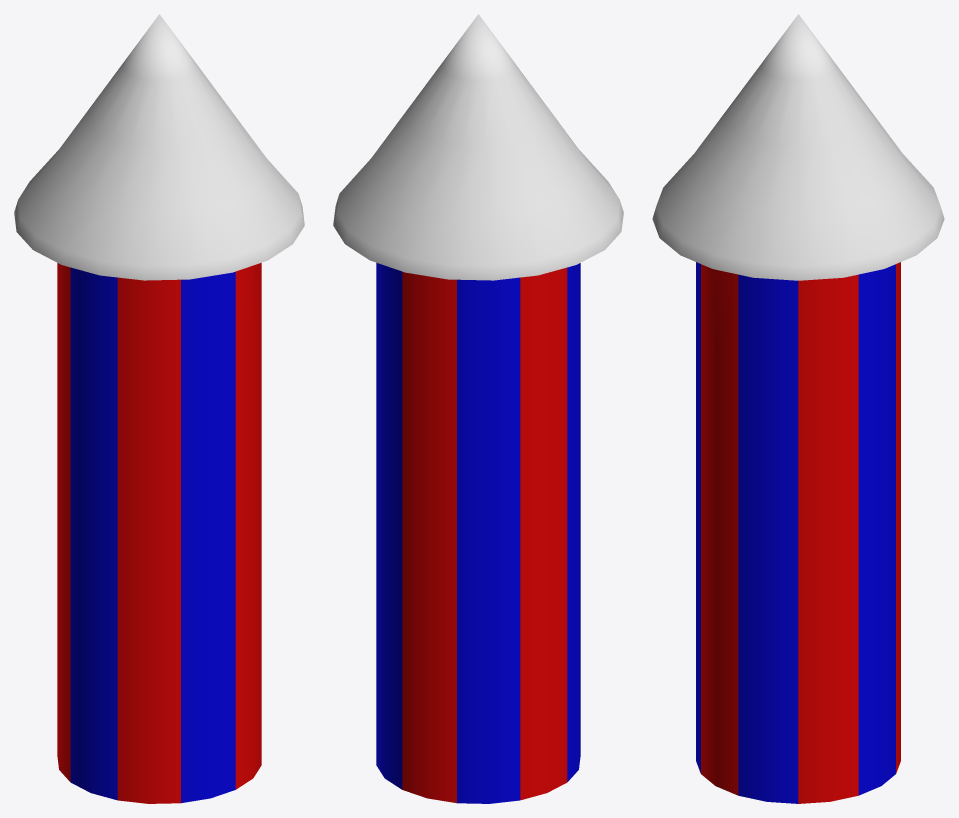
The model's file is Rocket_Enemy.fbx.
The picture shows the model from 3 angles, left to right: view 1: azimuth 30°, elevation 25°; view 2: azimuth 150°, elevation 25°; view 3: azimuth 270°, elevation 25°; orthographic projection.
Parts seen in each view (by area): view 1: Cone1; view 2: Cone1; view 3: Cone1.
Boxes of the visible parts, box(x1,y1,x2,y2) form: Cone1: box(14, 14, 304, 803); Cone1: box(333, 14, 623, 803); Cone1: box(652, 14, 944, 803).
Size of the model in its own units: 0.9666 by 2.72 by 0.9666.
